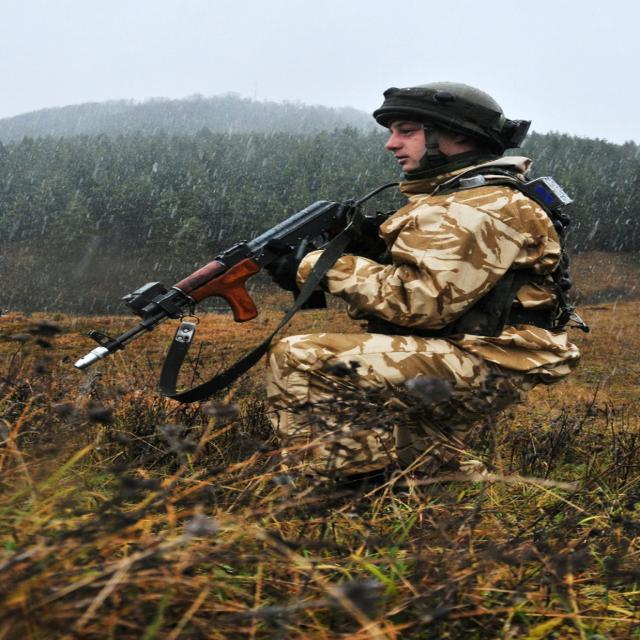weapon: (72, 174, 397, 370)
